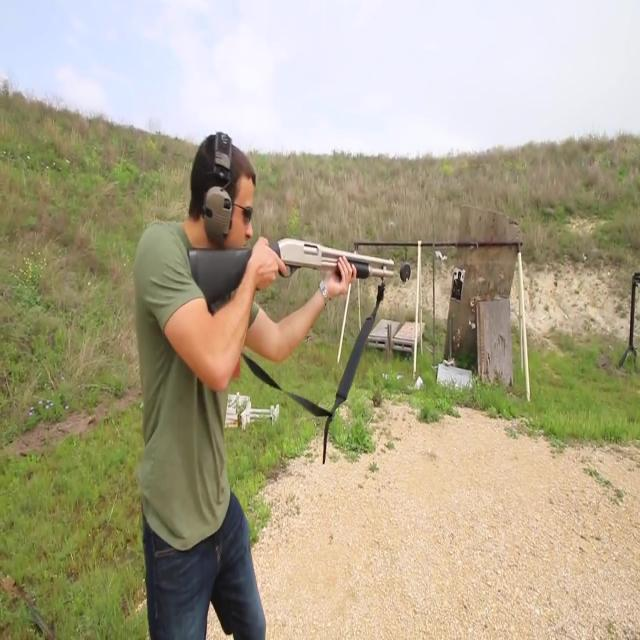Weapon: (178, 225, 406, 344)
